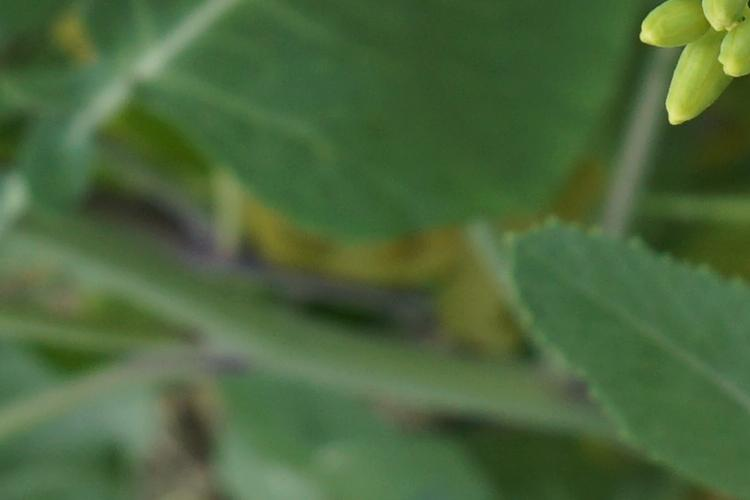bud: (651, 35, 734, 141), (641, 7, 707, 49), (722, 28, 750, 85), (702, 2, 747, 29)
